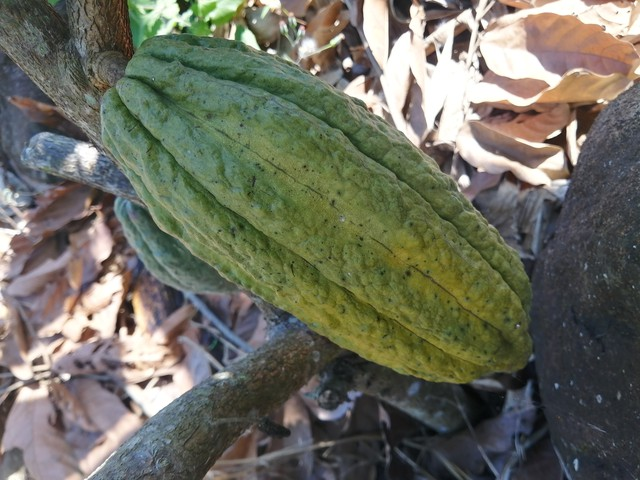Health: (80, 14, 564, 403)
